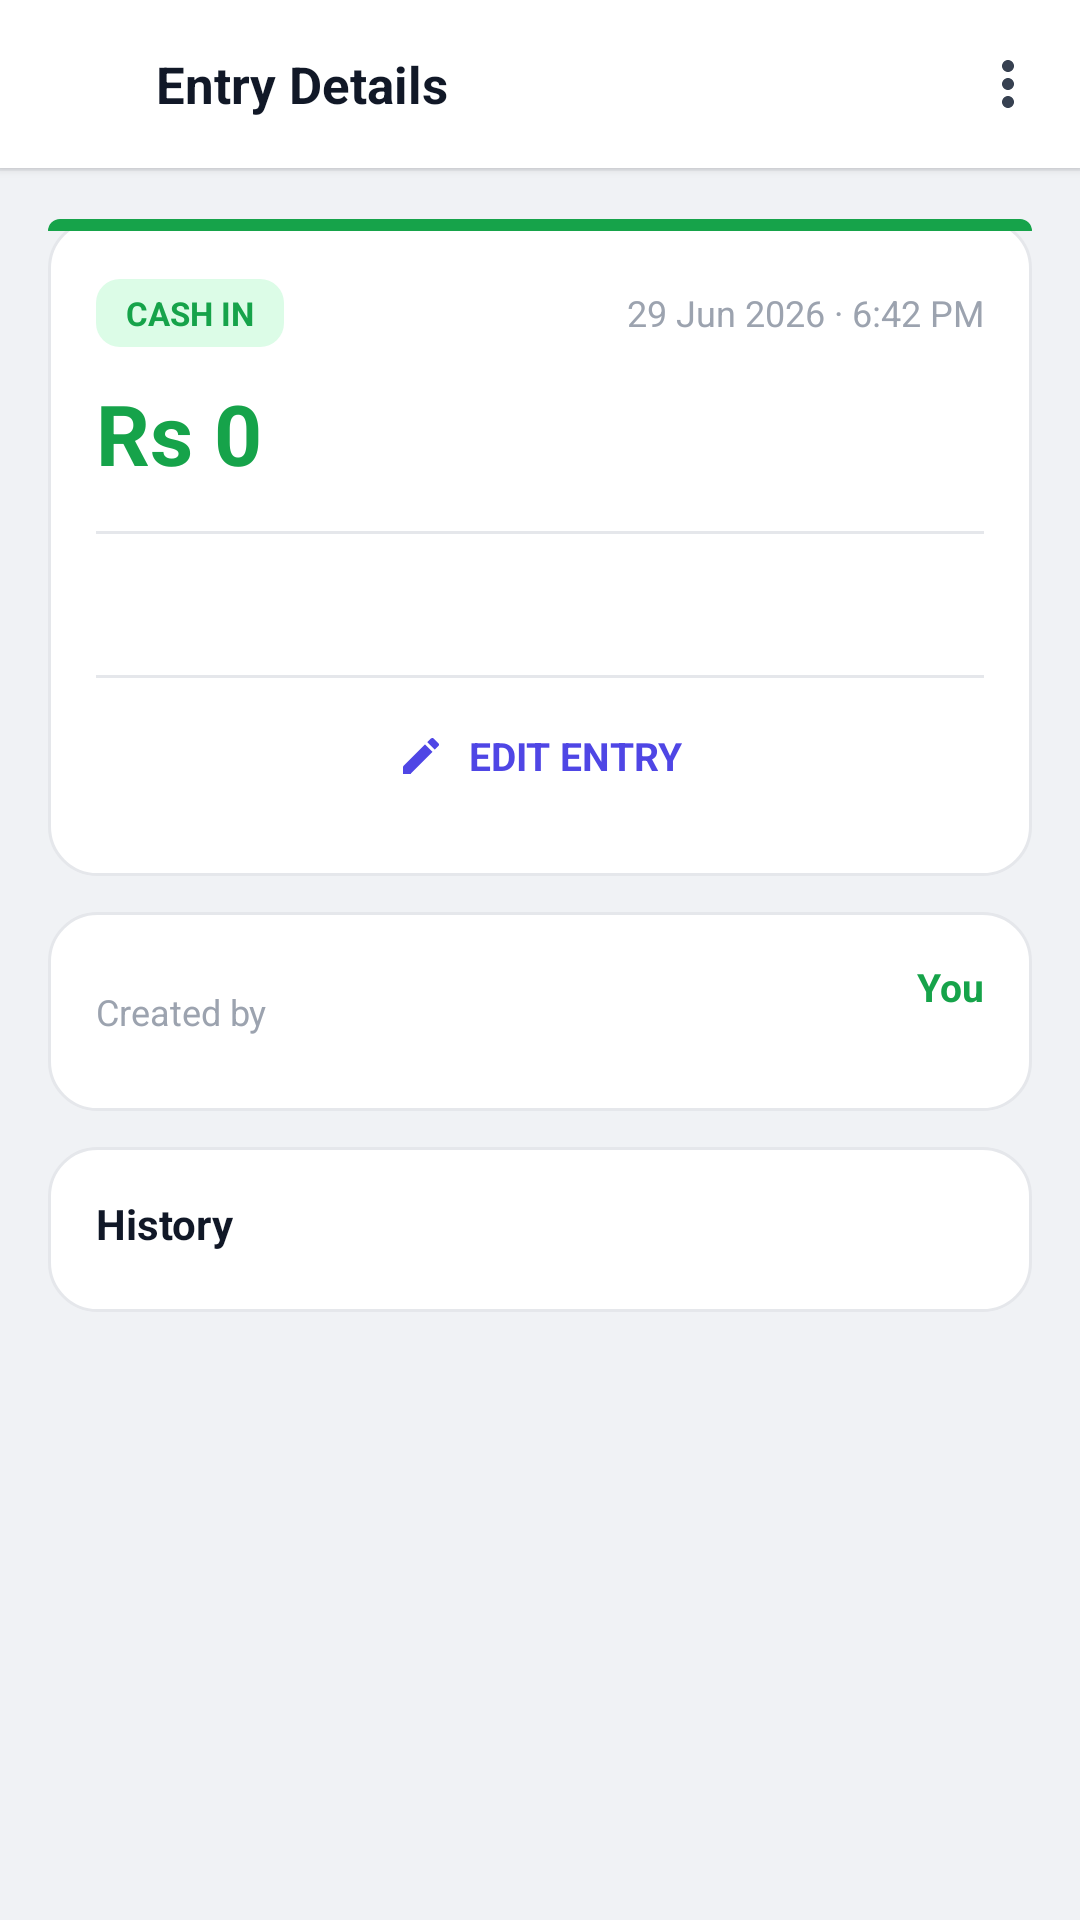

Icon bounding boxes for this 1080x1920 phone screenshot, format (x1, y1, x2, y2):
More options: (1002, 60, 1014, 108)
